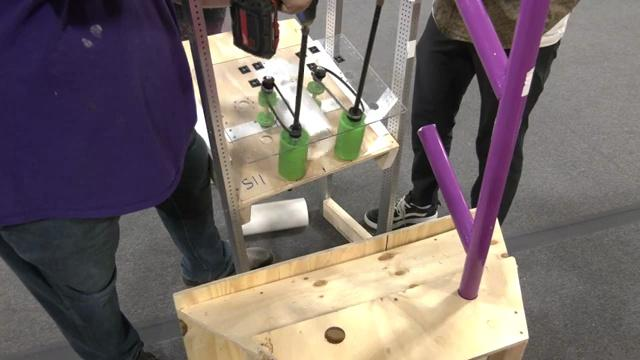CORAL: (239, 196, 309, 236)
